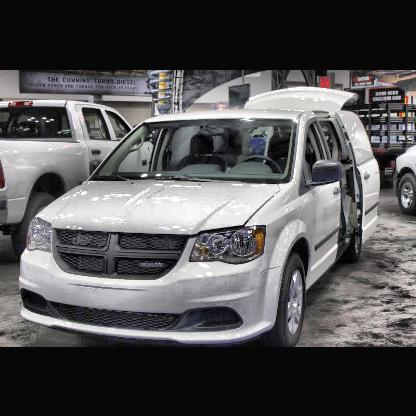Ram C-V Cargo Van Minivan 2012: (20, 87, 382, 346)
